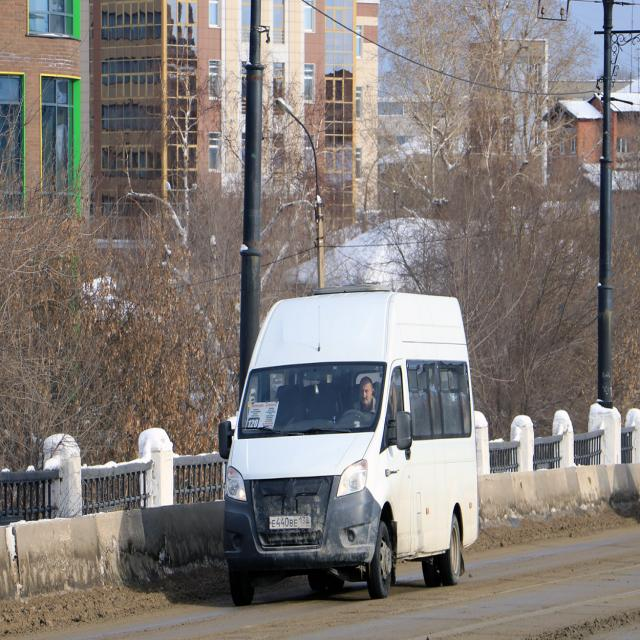number-of-bus: (248, 420, 260, 430)
